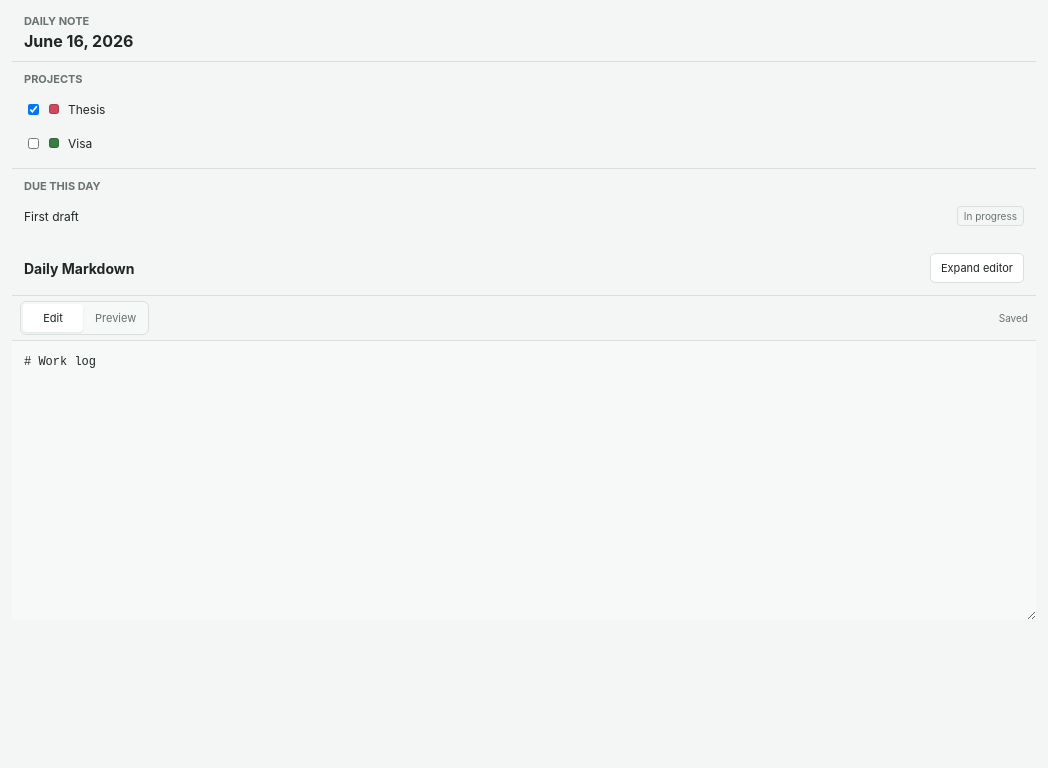
it: DailyDetails › reports a failed project association update
This screenshot has width=1048, height=768.
Click the checkbox labelled "Visa" at point(34, 143), box [28, 136, 39, 150]
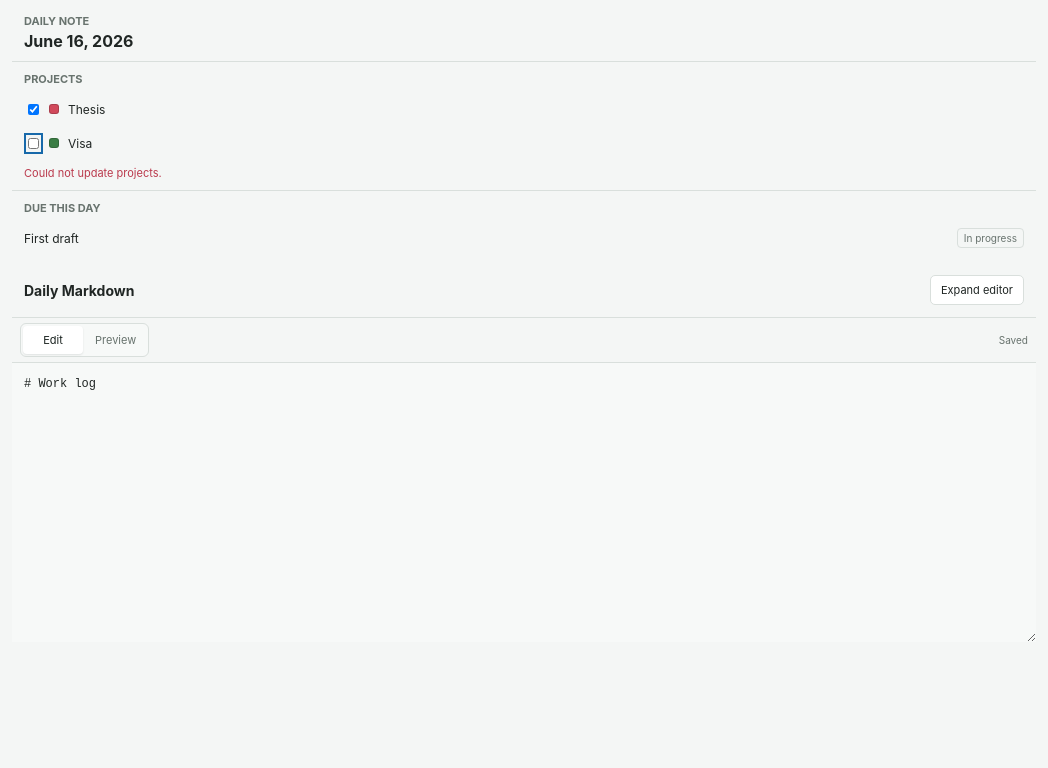
Check: the message reads "Could not update projects.", box [24, 166, 162, 180]
